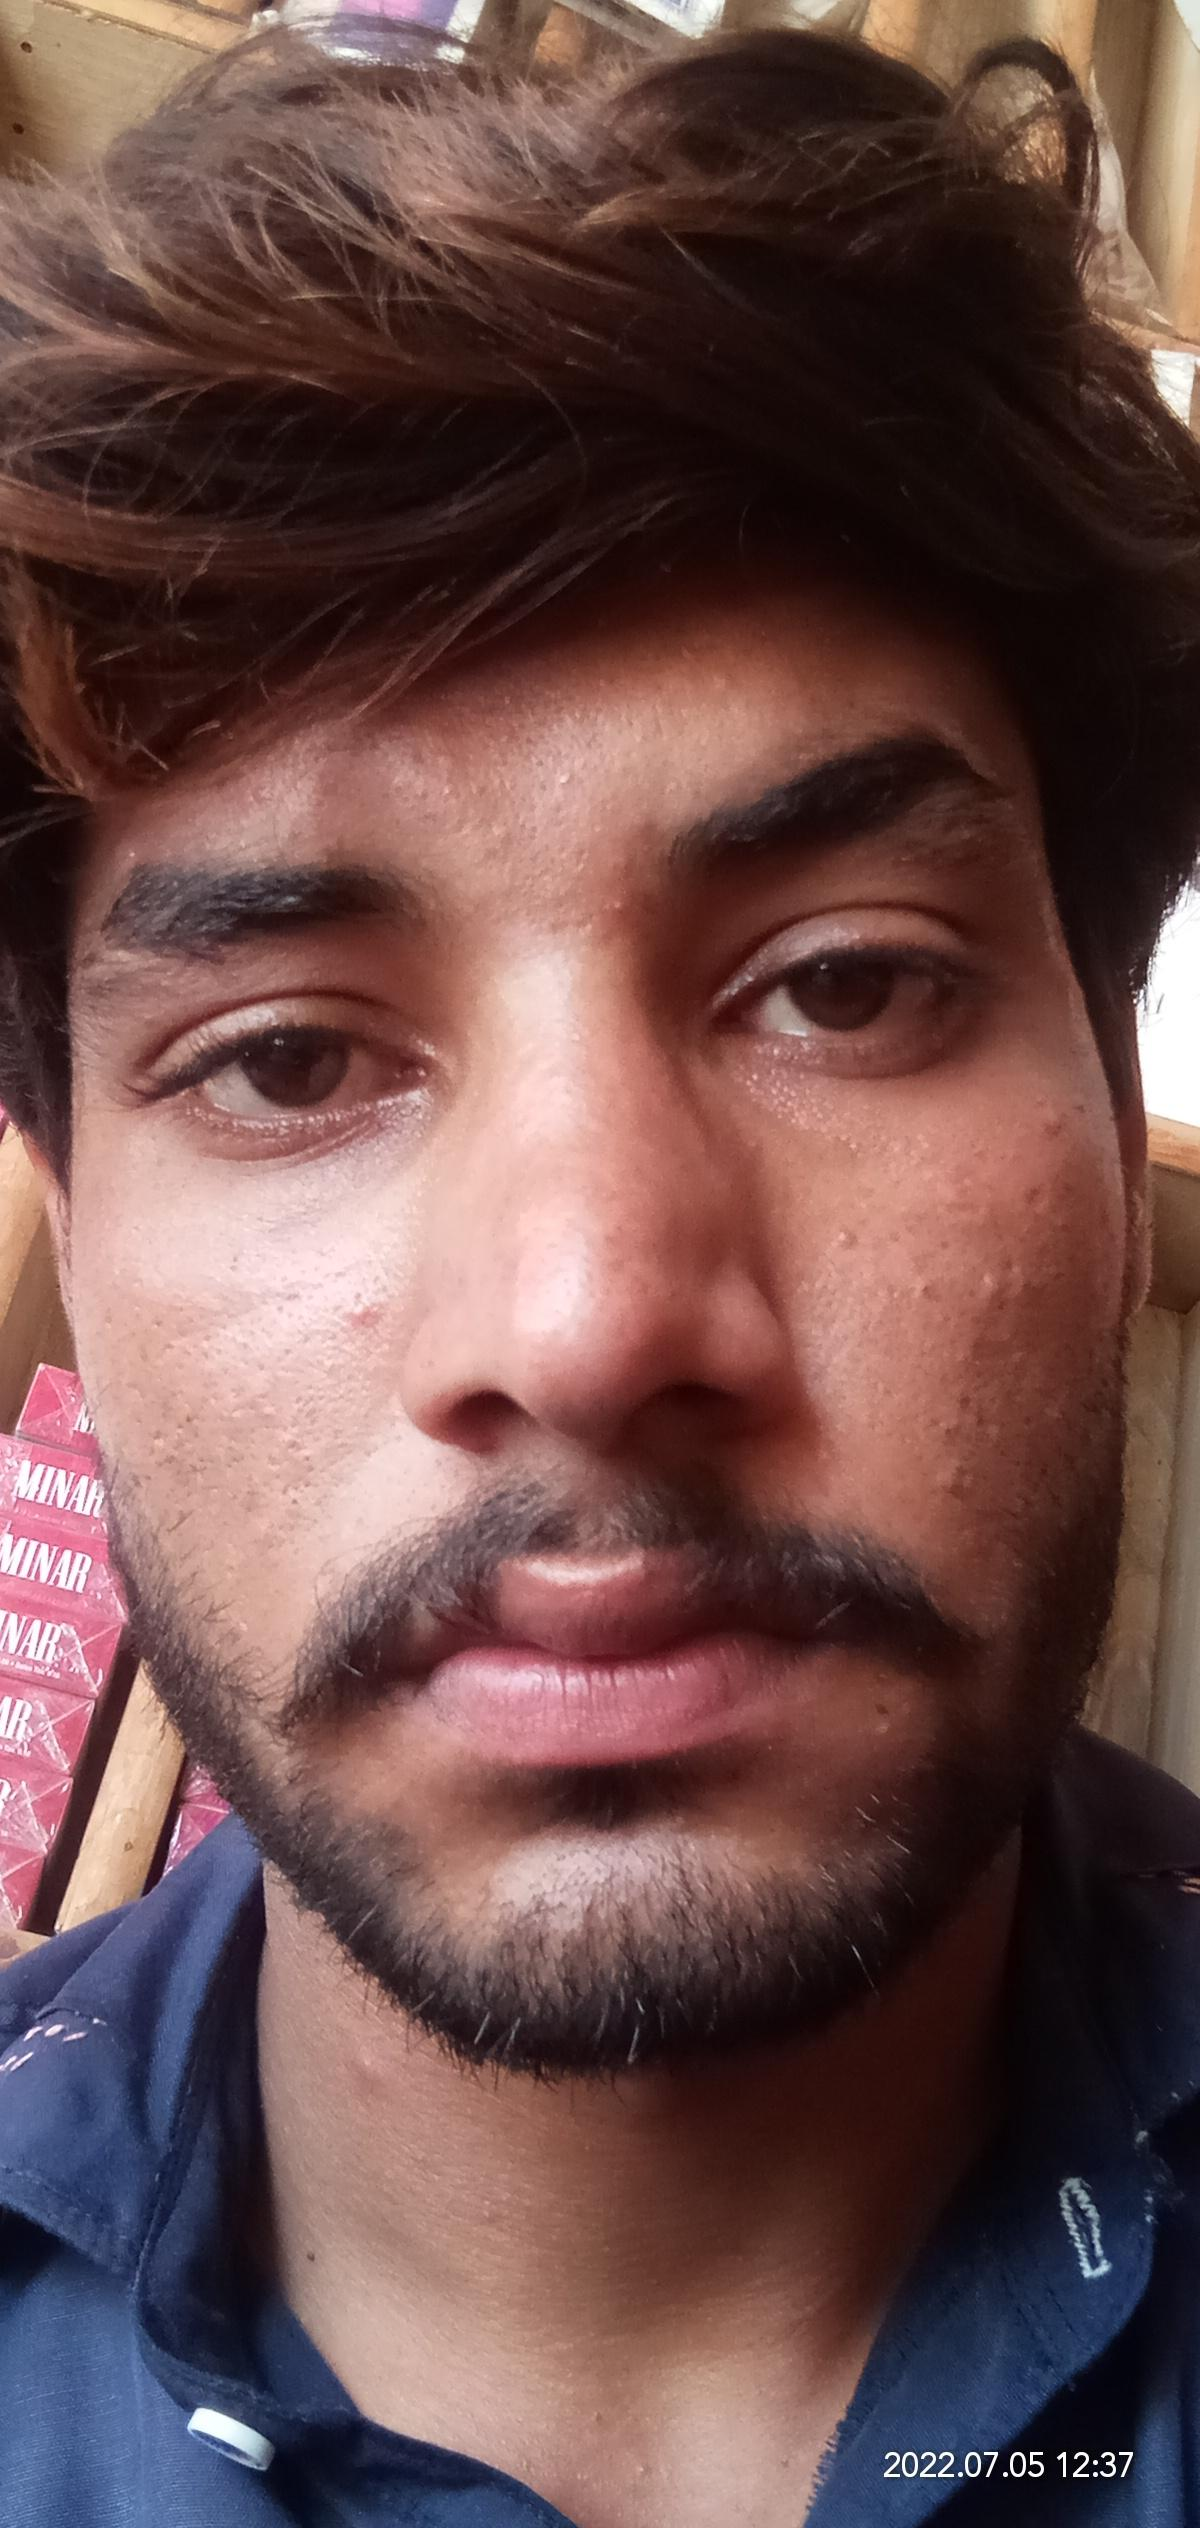Acne: (977, 1261, 1056, 1306), (937, 1453, 990, 1507), (342, 1291, 384, 1332), (1039, 1101, 1071, 1145), (958, 1324, 992, 1362), (831, 1220, 865, 1258), (905, 1275, 939, 1304), (710, 666, 739, 698), (550, 767, 576, 798), (603, 893, 627, 922), (1050, 1217, 1071, 1233)
Englarged-Pores: (145, 1304, 345, 1525)
